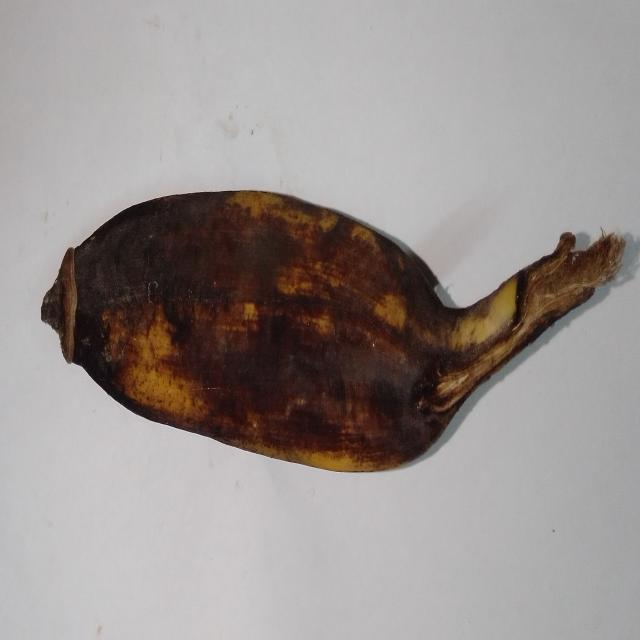banana: (42, 192, 624, 470)
